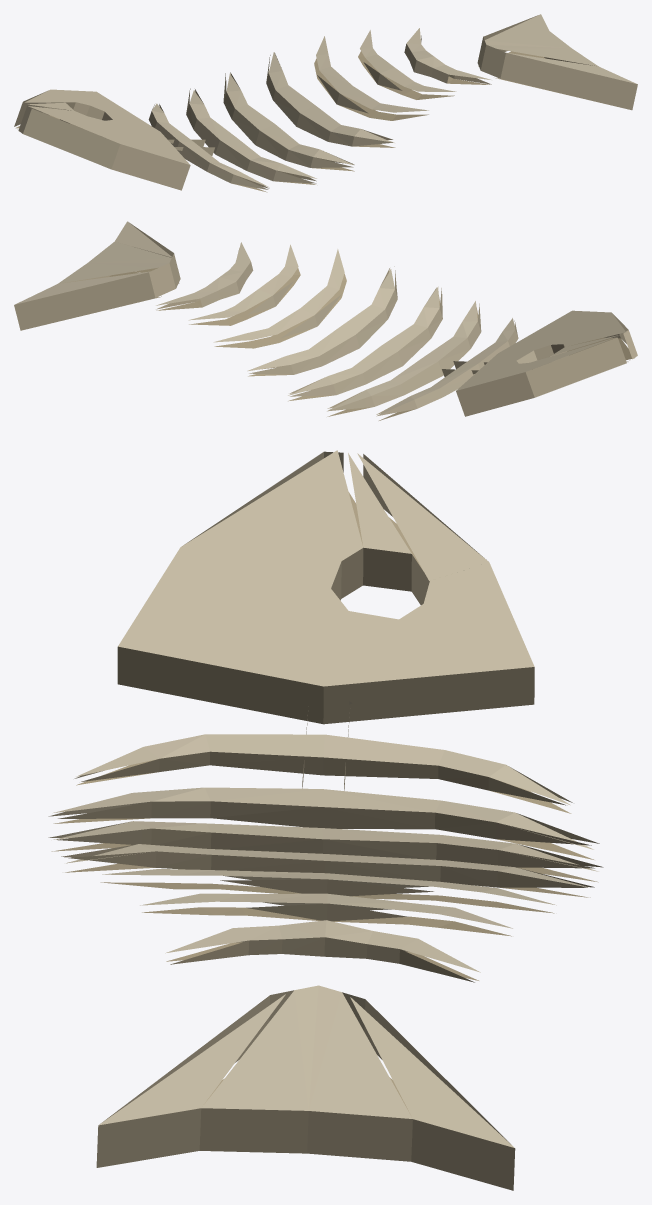
File: DressFishBone.glb
3 views of the same model, one above another, from view 1: azimuth 30°, elevation 25°; view 2: azimuth 150°, elevation 25°; view 3: azimuth 270°, elevation 25° (orthographic). The views are drawn at different scales.
Visible parts, largest first — view 1: DressFishBone; view 2: DressFishBone; view 3: DressFishBone.
Part boxes in pixels (x1,y1,x2,y2): DressFishBone: (14, 14, 637, 192); DressFishBone: (14, 221, 637, 420); DressFishBone: (48, 450, 603, 1190).
Size of the model in its own units: 1.1 by 0.1877 by 0.4694.
